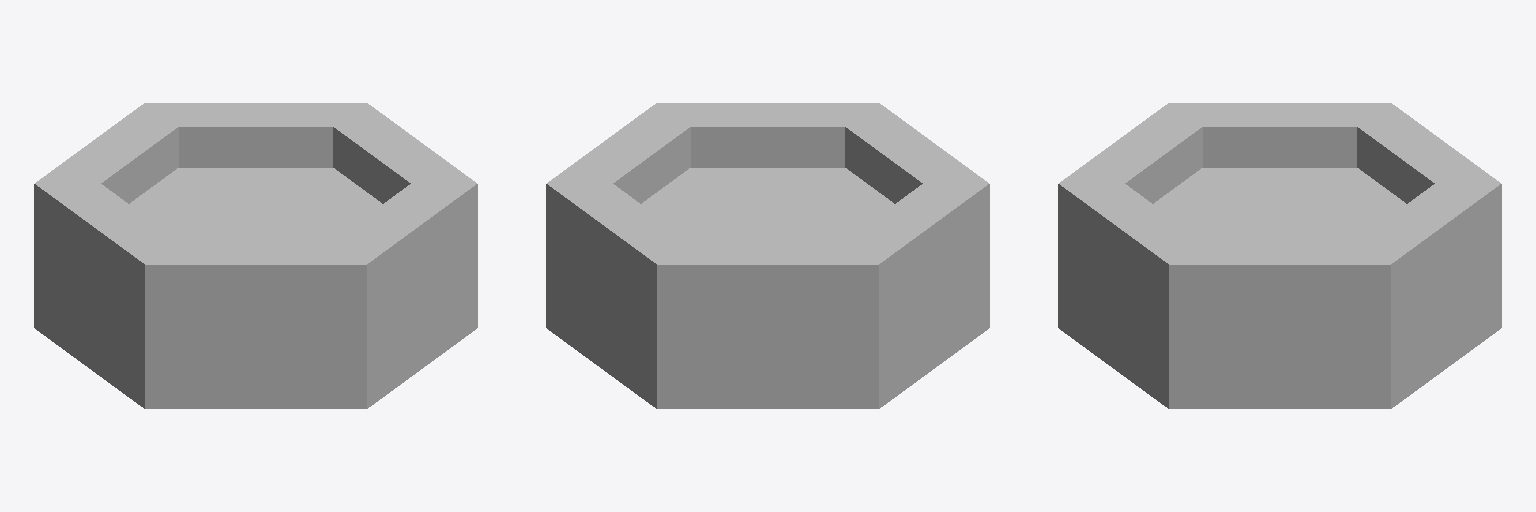
File: Camera Lens.obj
3 renders of one model, left to right at view 1: azimuth 30°, elevation 25°; view 2: azimuth 150°, elevation 25°; view 3: azimuth 270°, elevation 25°, orthographic.
Visible parts, largest first — view 1: Camera_Lens; view 2: Camera_Lens; view 3: Camera_Lens.
Boxes of the visible parts, x1=… form: Camera_Lens: x1=34, y1=103, x2=477, y2=408; Camera_Lens: x1=546, y1=103, x2=989, y2=408; Camera_Lens: x1=1058, y1=103, x2=1501, y2=408.
Size of the model in its own units: 0.0508 by 0.0211 by 0.0586.